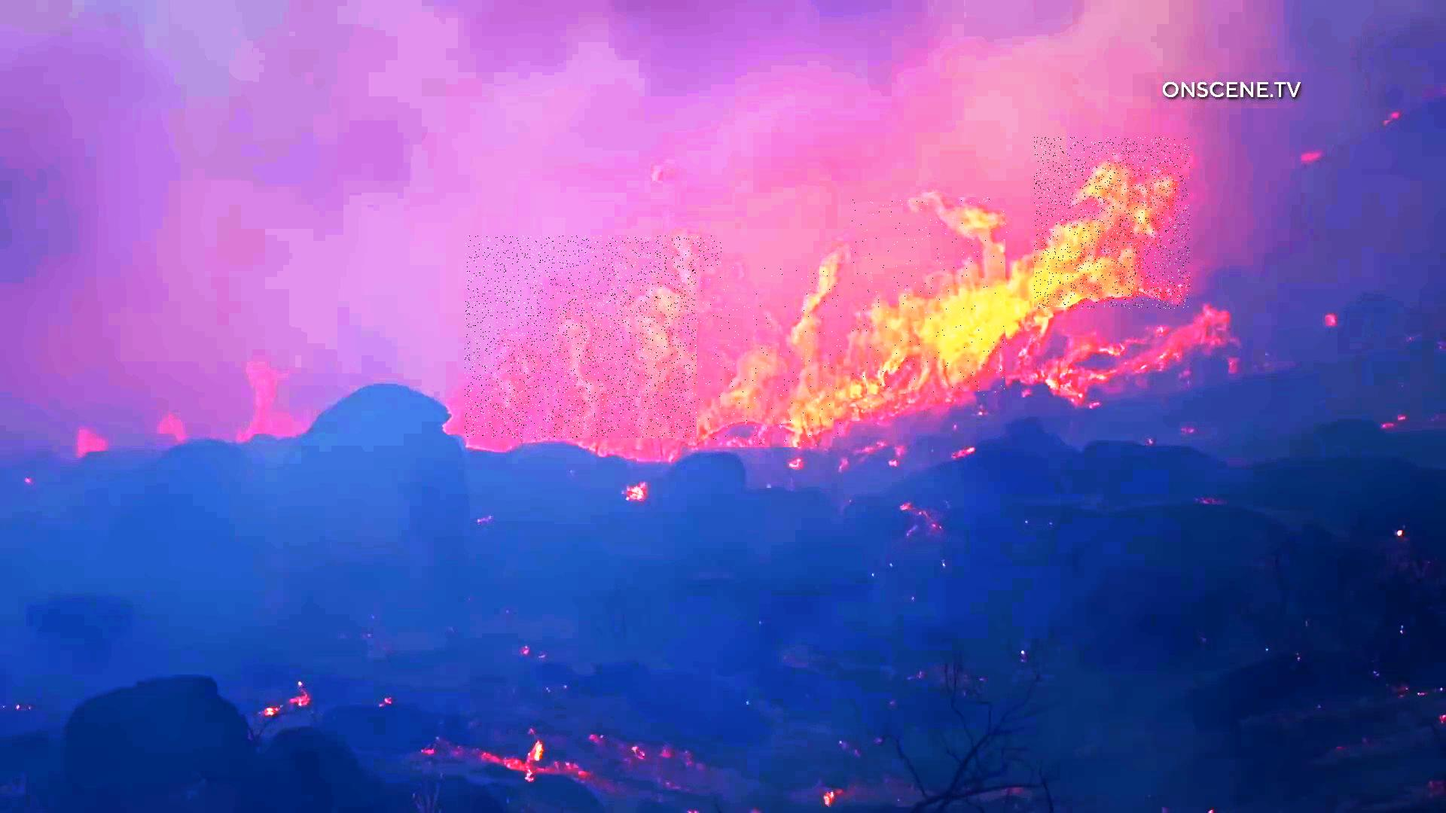fire: (465, 236, 722, 438), (852, 198, 1008, 397), (1034, 138, 1190, 309), (697, 266, 841, 447)
